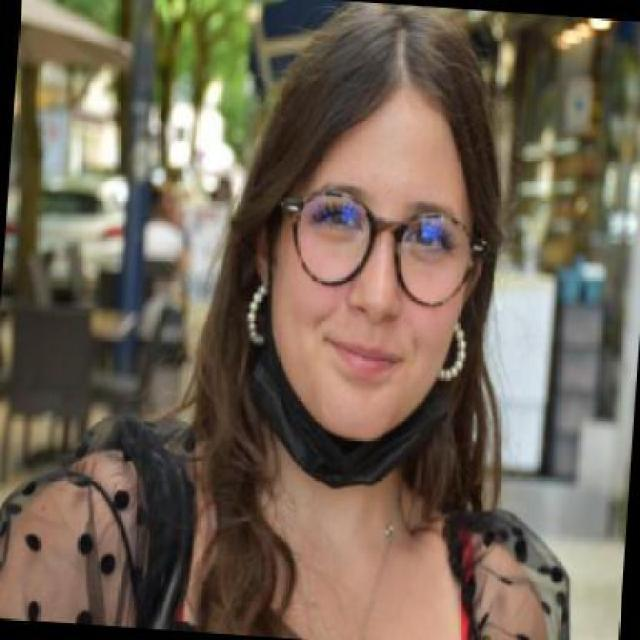hairnet: (242, 108, 490, 500)
